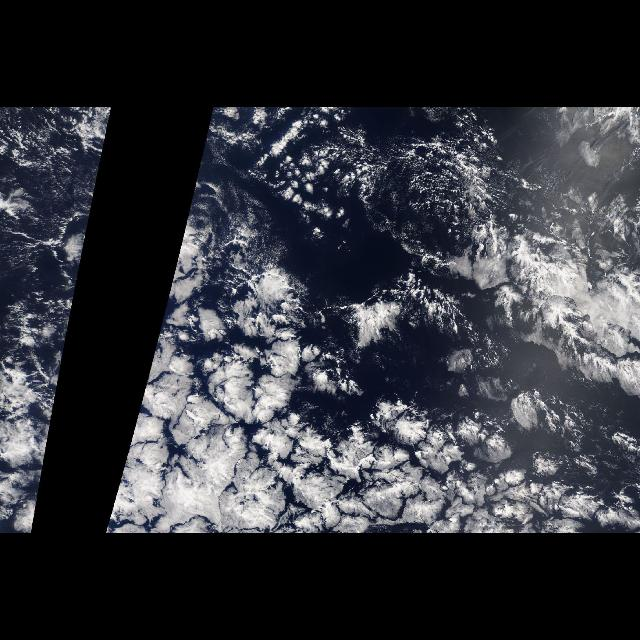Fish: (404, 126, 640, 318)
Flower: (105, 225, 639, 533), (0, 225, 90, 533)
